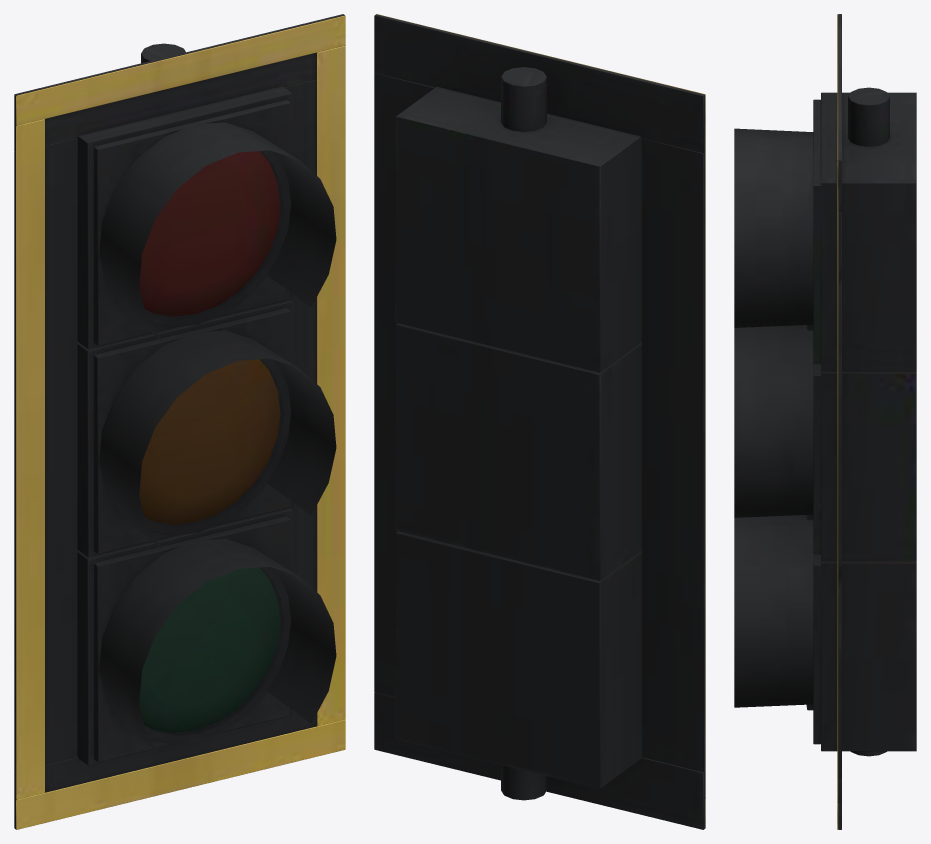
Rendered from signalHead-v2.glb.
3 views of the same model, side by side, from view 1: azimuth 30°, elevation 25°; view 2: azimuth 150°, elevation 25°; view 3: azimuth 270°, elevation 25° (orthographic). The views are drawn at different scales.
Visible parts, largest first — view 1: signalHead; view 2: signalHead; view 3: signalHead.
Boxes of the visible parts, x1,y1,x2,y2 form: signalHead: (14, 14, 345, 829); signalHead: (374, 14, 705, 829); signalHead: (734, 14, 916, 829).
Size of the model in its own units: 0.58 by 1.23 by 0.305.
4 materials, 4 textured.
